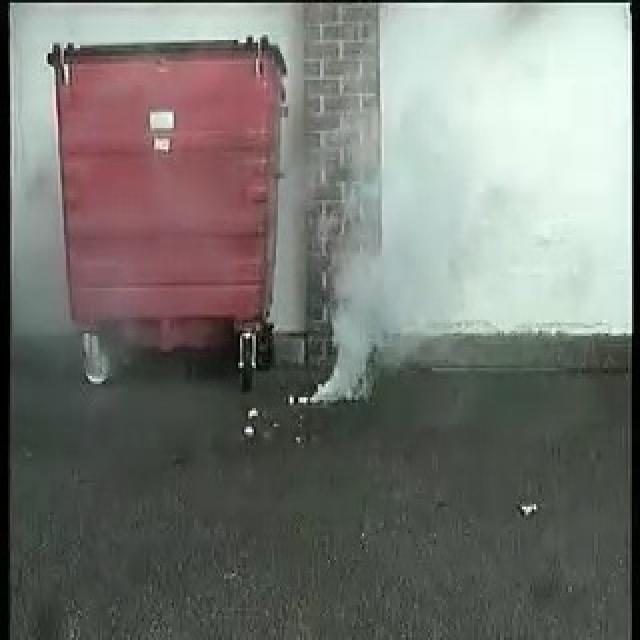smoke: (309, 210, 425, 403)
